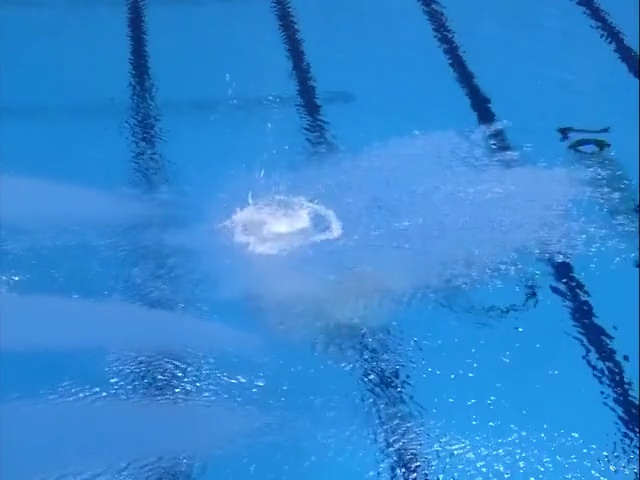splash: (229, 194, 349, 257)
